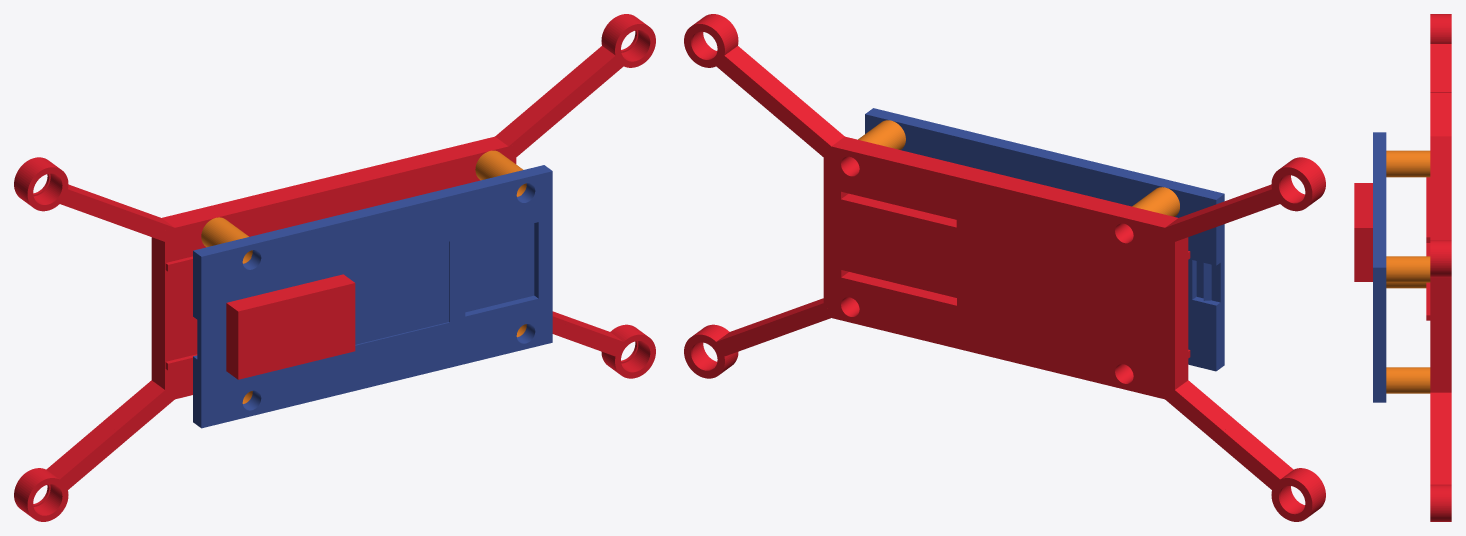
File: tinker.obj
The picture shows the model from 3 angles, left to right: view 1: azimuth 30°, elevation 25°; view 2: azimuth 150°, elevation 25°; view 3: azimuth 270°, elevation 25°; orthographic projection. The views are drawn at different scales.
Parts seen in each view (by area): view 1: group_0_3888547, group_0_15277357, group_0_16089887; view 2: group_0_15277357, group_0_3888547, group_0_16089887; view 3: group_0_15277357, group_0_16089887, group_0_3888547.
Boxes of the visible parts, x1,y1,x2,y2 form: group_0_3888547: (193,165,552,428); group_0_15277357: (14,14,655,521); group_0_16089887: (201,150,526,403); group_0_15277357: (684,14,1325,521); group_0_3888547: (865,108,1224,371); group_0_16089887: (858,120,1179,216); group_0_15277357: (1354,14,1451,521); group_0_16089887: (1386,150,1430,393); group_0_3888547: (1373,132,1386,402).
Size of the model in its own units: 215 by 115 by 36.5.
